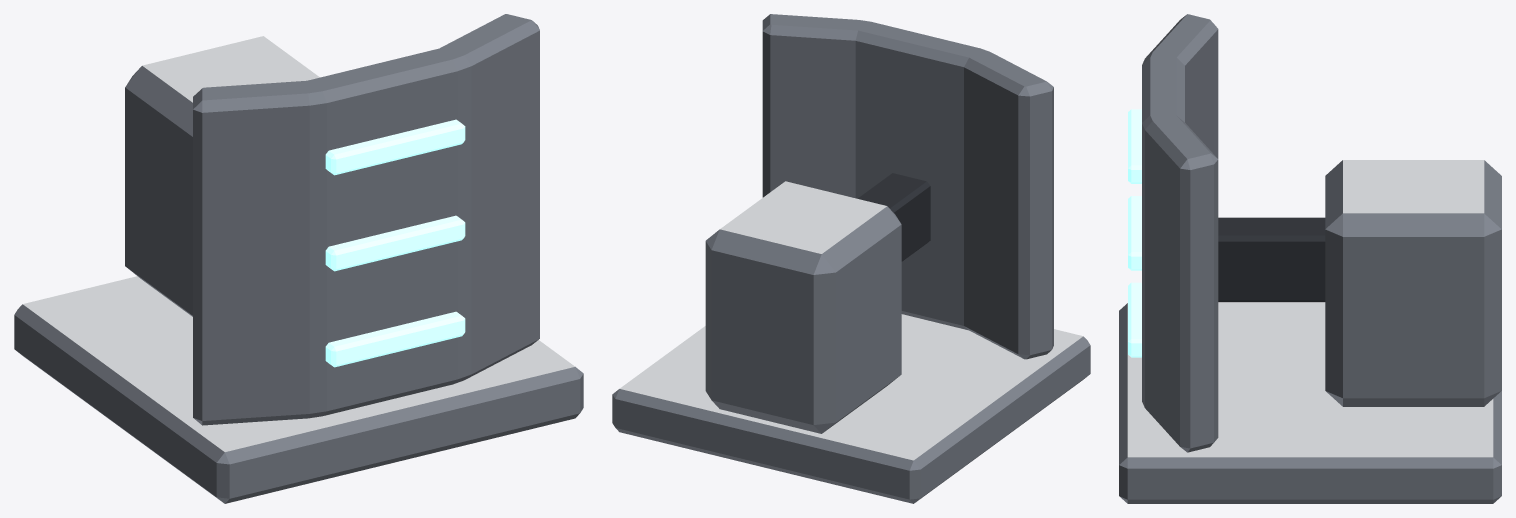
The model's file is R4X_DirectionalShield_LOD1.fbx.
The picture shows the model from 3 angles, left to right: view 1: azimuth 30°, elevation 25°; view 2: azimuth 150°, elevation 25°; view 3: azimuth 270°, elevation 25°; orthographic projection. The views are drawn at different scales.
Visible parts, largest first — view 1: R4X_DirectionalShield_LOD1; view 2: R4X_DirectionalShield_LOD1; view 3: R4X_DirectionalShield_LOD1.
Boxes of the visible parts, x1,y1,x2,y2 form: R4X_DirectionalShield_LOD1: [14, 14, 583, 503]; R4X_DirectionalShield_LOD1: [612, 14, 1090, 503]; R4X_DirectionalShield_LOD1: [1119, 14, 1501, 503].
Bounding box in the file's own units: 0.52 × 0.51 × 0.52.
